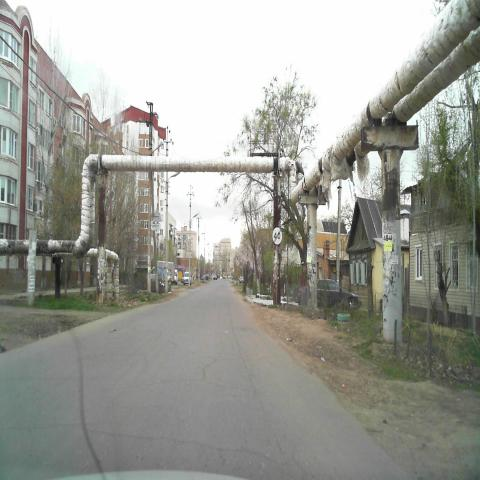3_25: (272, 227, 283, 246)
